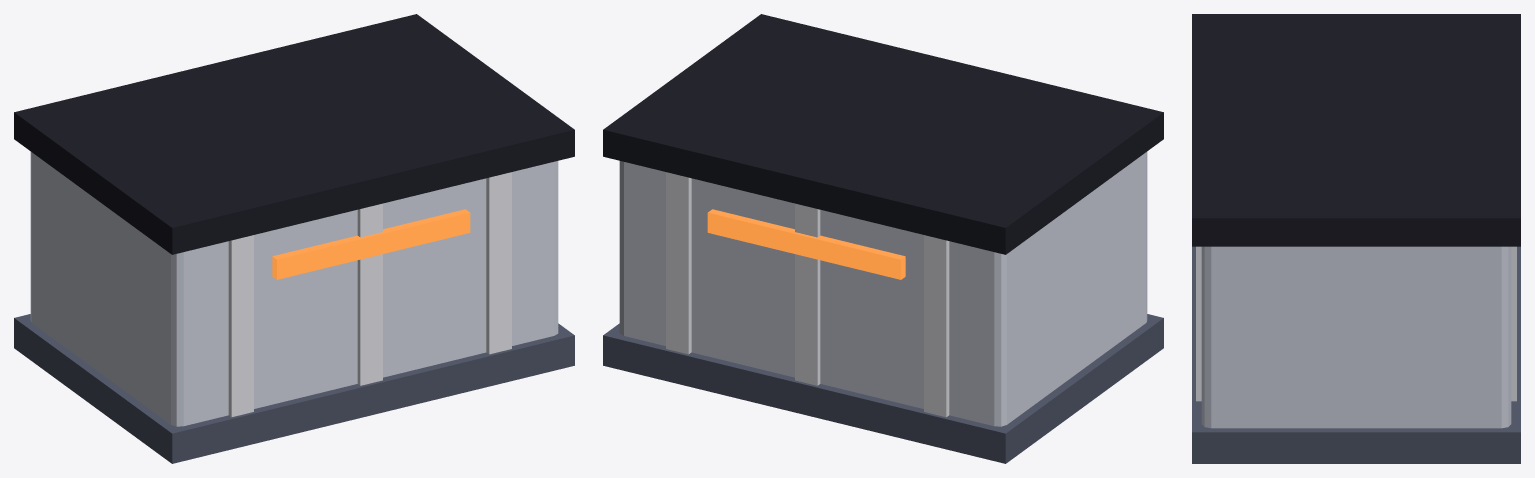
File: city_cargo.glb
3 views of the same model, side by side, from view 1: azimuth 30°, elevation 25°; view 2: azimuth 150°, elevation 25°; view 3: azimuth 270°, elevation 25° (orthographic). The views are drawn at different scales.
Visible parts, largest first — view 1: city_cargo; view 2: city_cargo; view 3: city_cargo.
Part boxes in pixels (x1,y1,x2,y2): city_cargo: (14, 14, 574, 463); city_cargo: (603, 14, 1163, 463); city_cargo: (1192, 14, 1520, 463).
Size of the model in its own units: 2.5 by 1.4 by 1.7.
